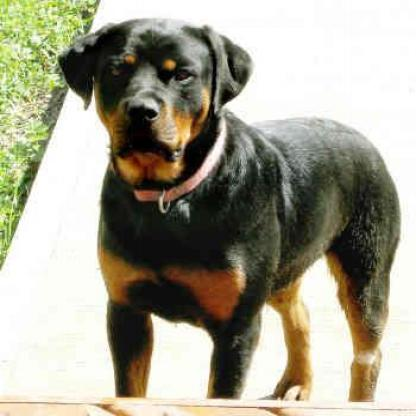Rottweiler: (55, 14, 404, 404)
